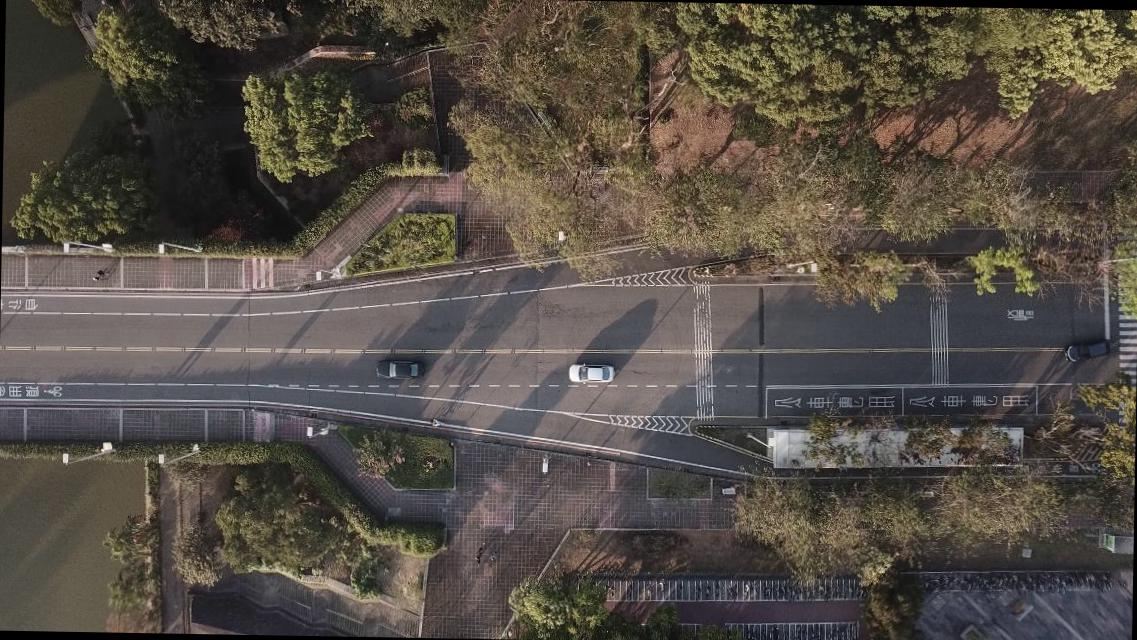vehicle: (1064, 338, 1110, 362), (376, 358, 423, 381), (569, 363, 614, 382)
